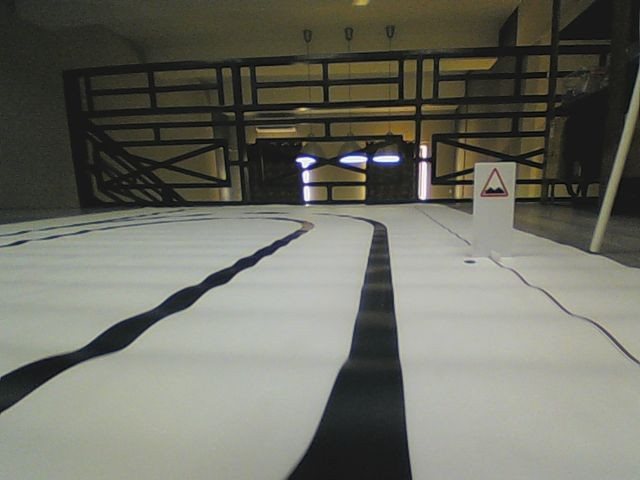Nerov: (478, 167, 509, 200)
